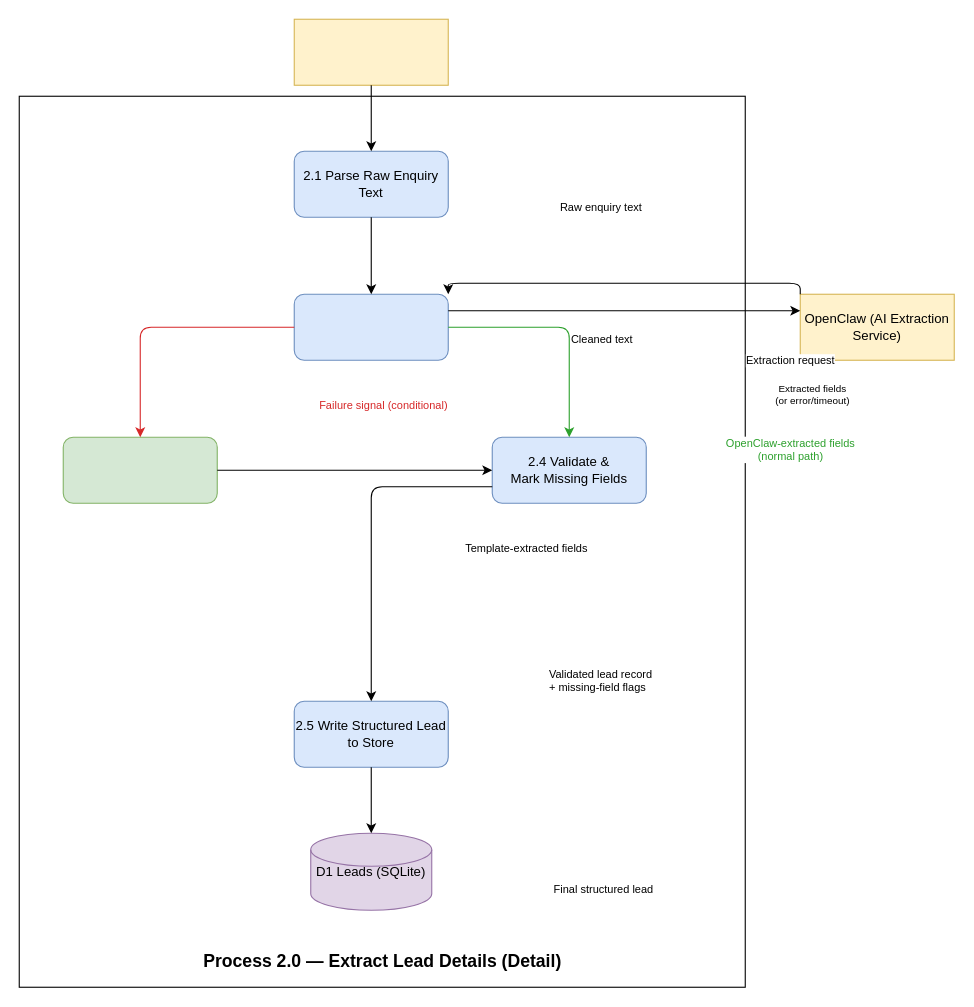
Some shapes in this 974 by 1007 pixel diagram are drawn without their labels. Each missing label, with the centre of its shape:
"2.2 Call OpenClaw Extraction" belongs at pixel 370 326.
"2.3 Apply Fallback Rule-Based Template" belongs at pixel 139 469.
"Agent (Staff Member)" belongs at pixel 370 51.
